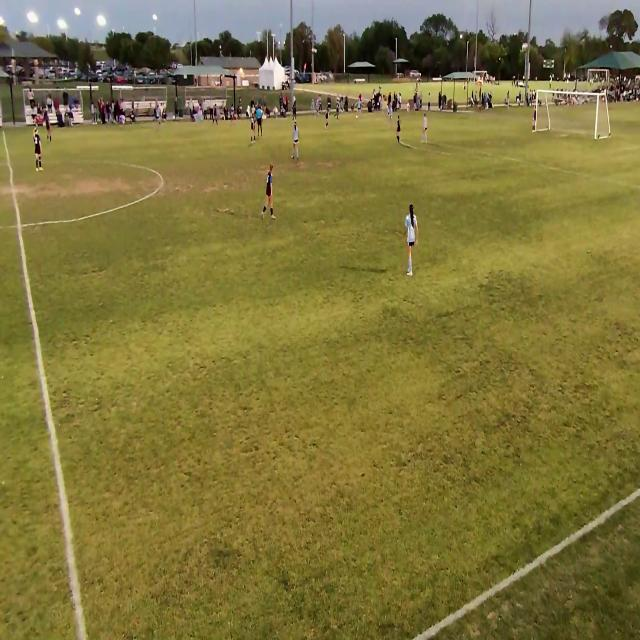ball: (356, 115, 358, 120)
team1: (262, 166, 274, 218), (33, 127, 43, 172), (44, 108, 53, 146), (397, 110, 403, 145), (250, 111, 256, 145), (212, 102, 219, 124), (334, 98, 340, 121), (325, 106, 330, 130)
team2: (405, 203, 420, 277), (291, 120, 301, 162), (422, 112, 428, 144), (355, 98, 363, 120), (390, 104, 394, 128)
